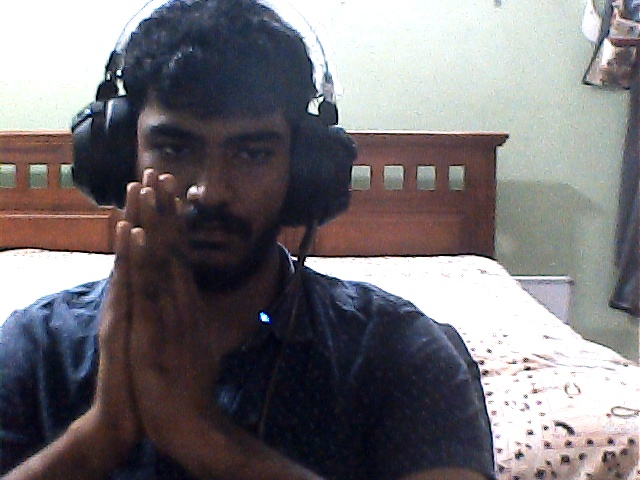Sign: (92, 168, 215, 465)
